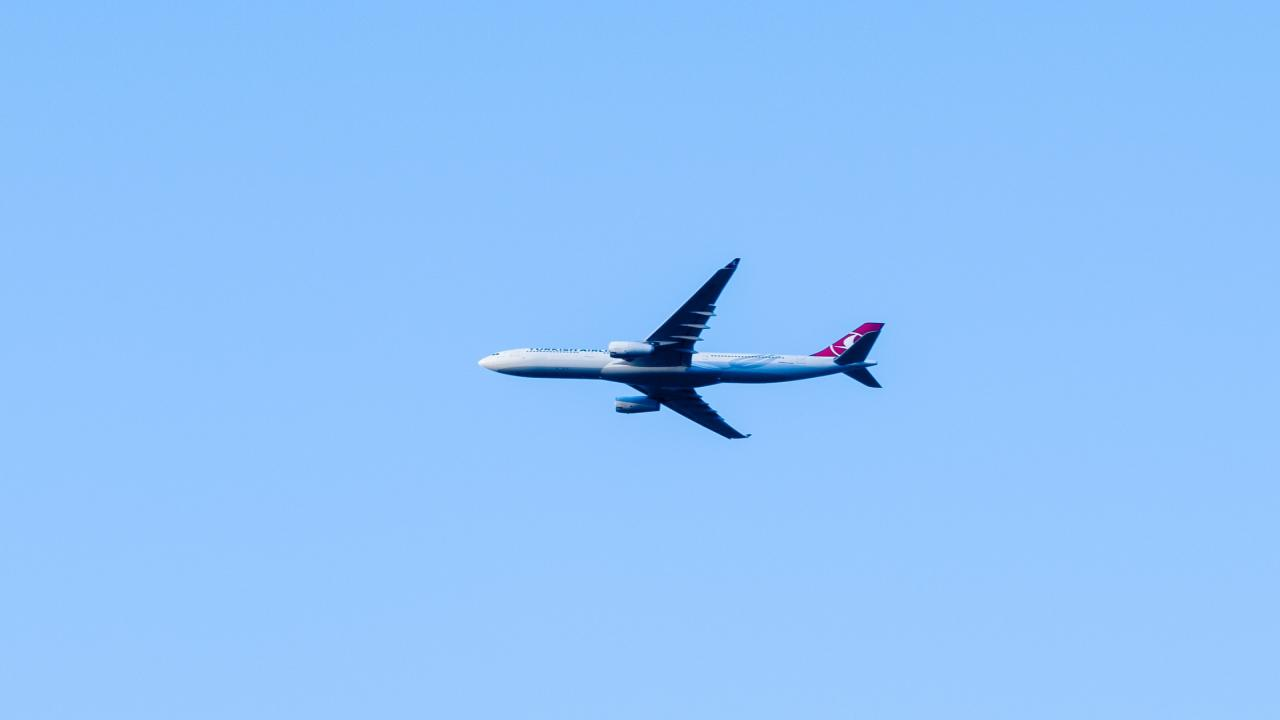Airplane: (463, 250, 900, 450)
